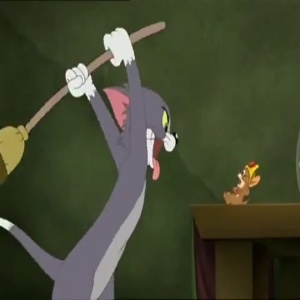Jerry: (233, 157, 261, 188)
Tom: (105, 73, 179, 184)
